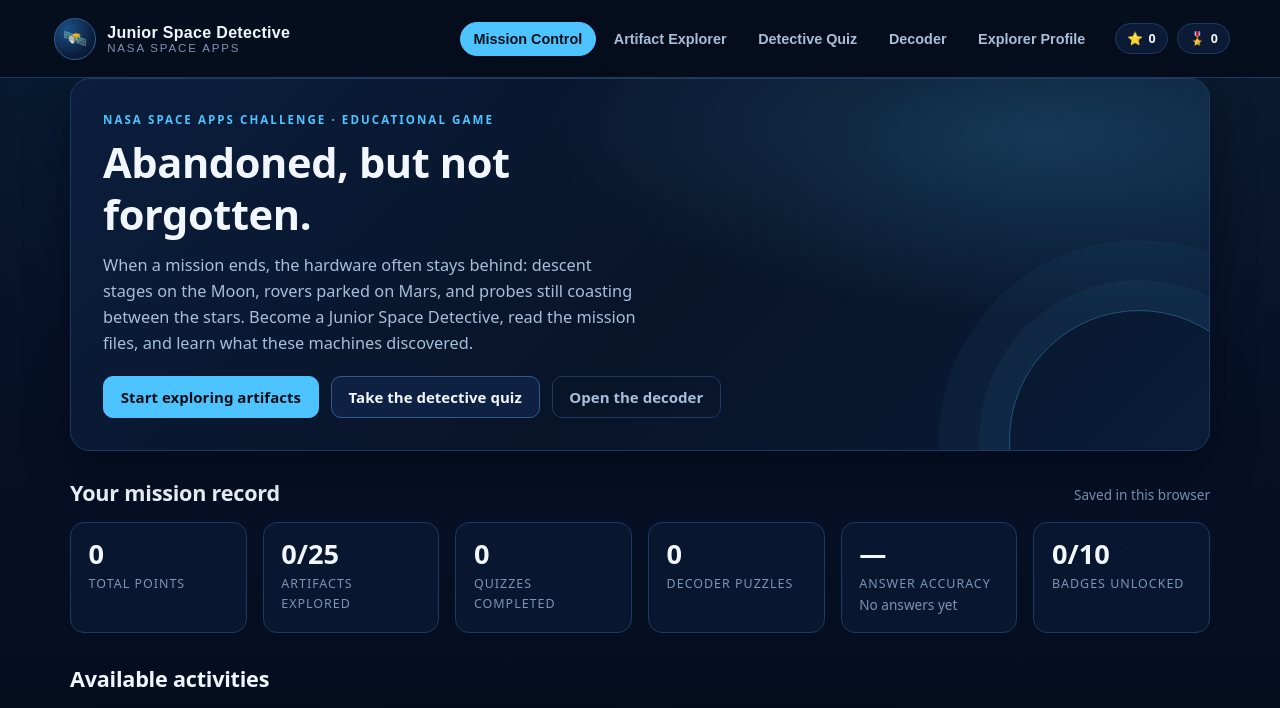
it: decoder journey › shows a hint only after the player asks for it
Click the button "Decoder". click: (918, 39)
box: 875,22 -> 960,56
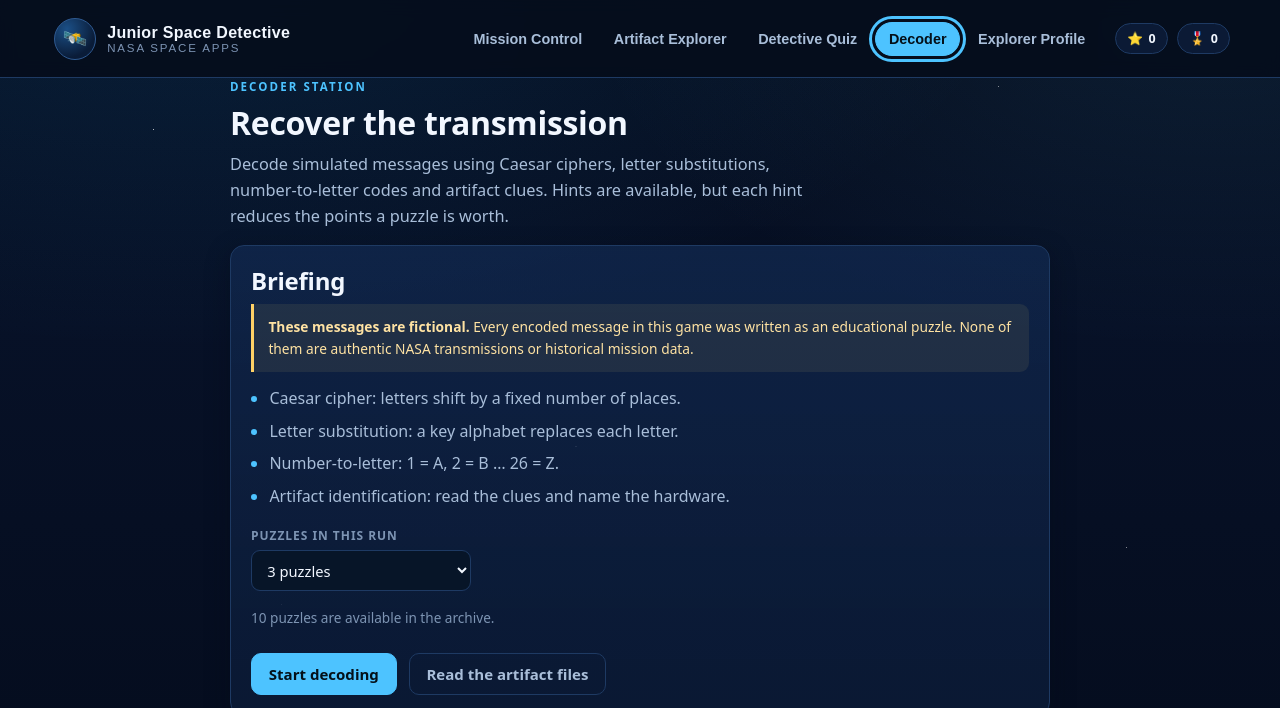
Select "1 puzzle" in the dropdown labelled "Puzzles in this run". click: (361, 571)
box: 251,550 -> 471,591
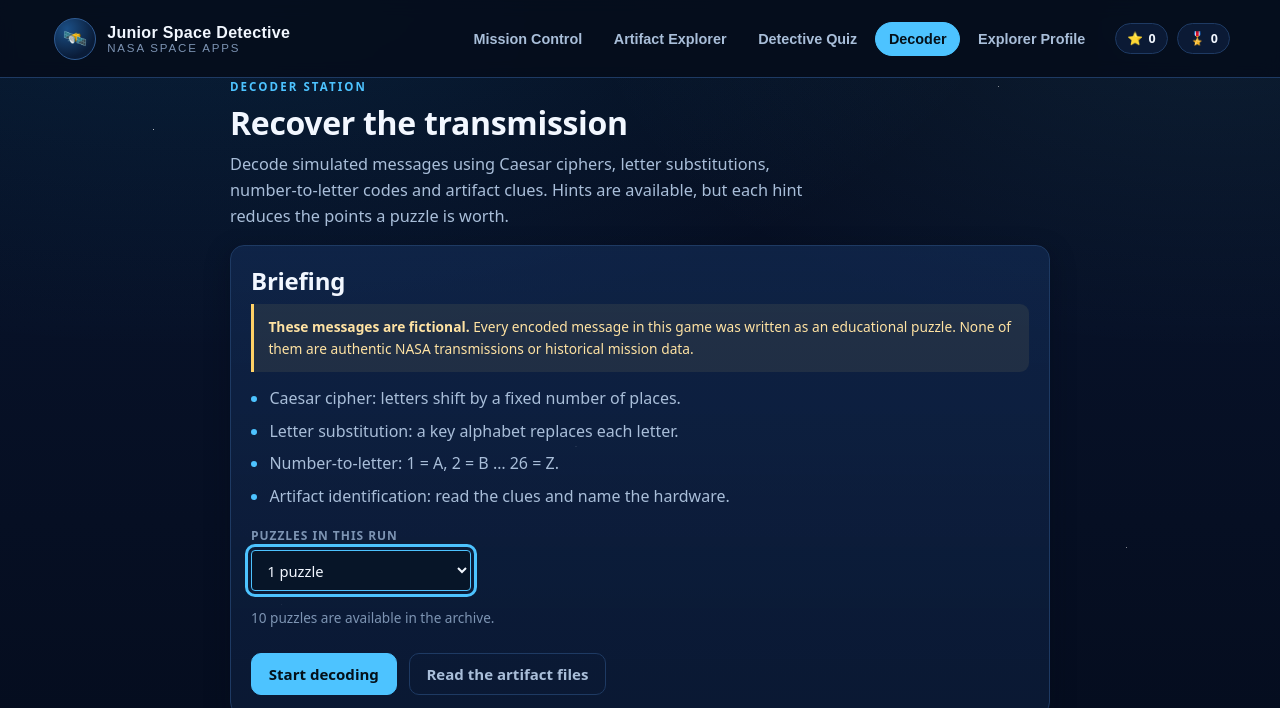
Click the button "Start decoding". click: (324, 674)
box: 251,653 -> 397,695
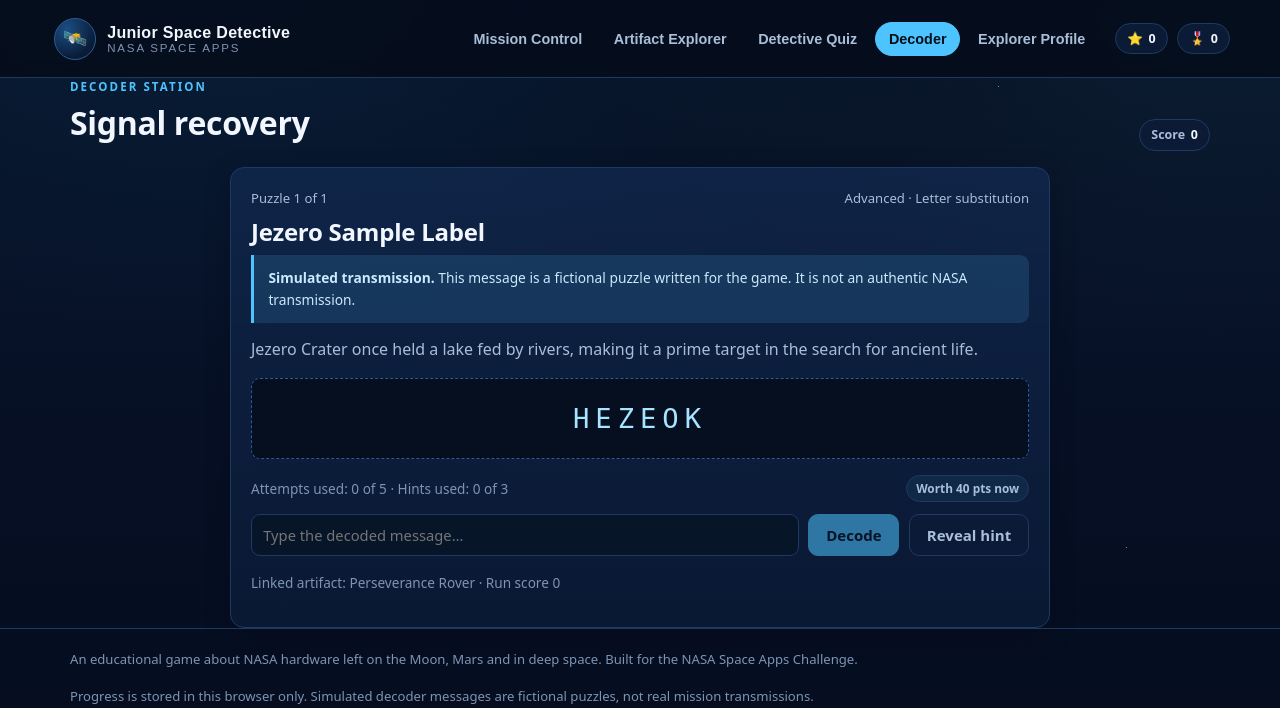
Click the button "Reveal hint". click: (969, 535)
box: 909,514 -> 1029,556
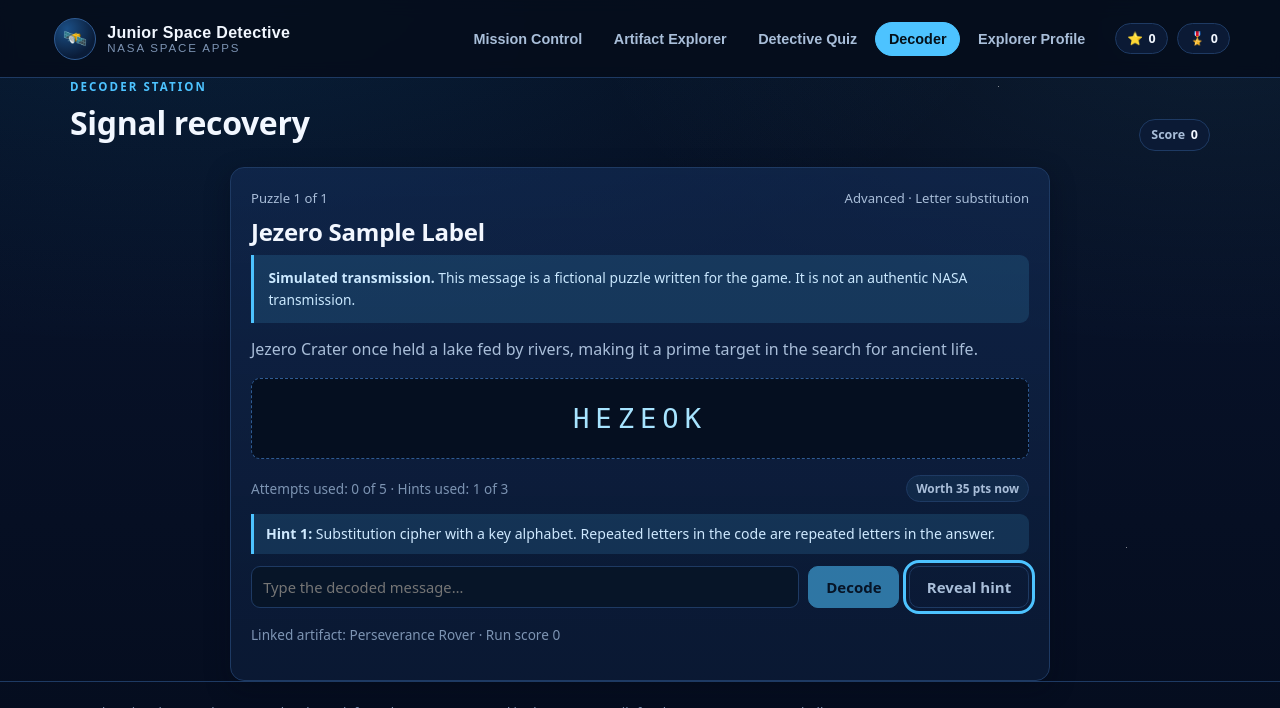
Result: the list named "revealed hints" is shown at 251,514 -> 1029,554
